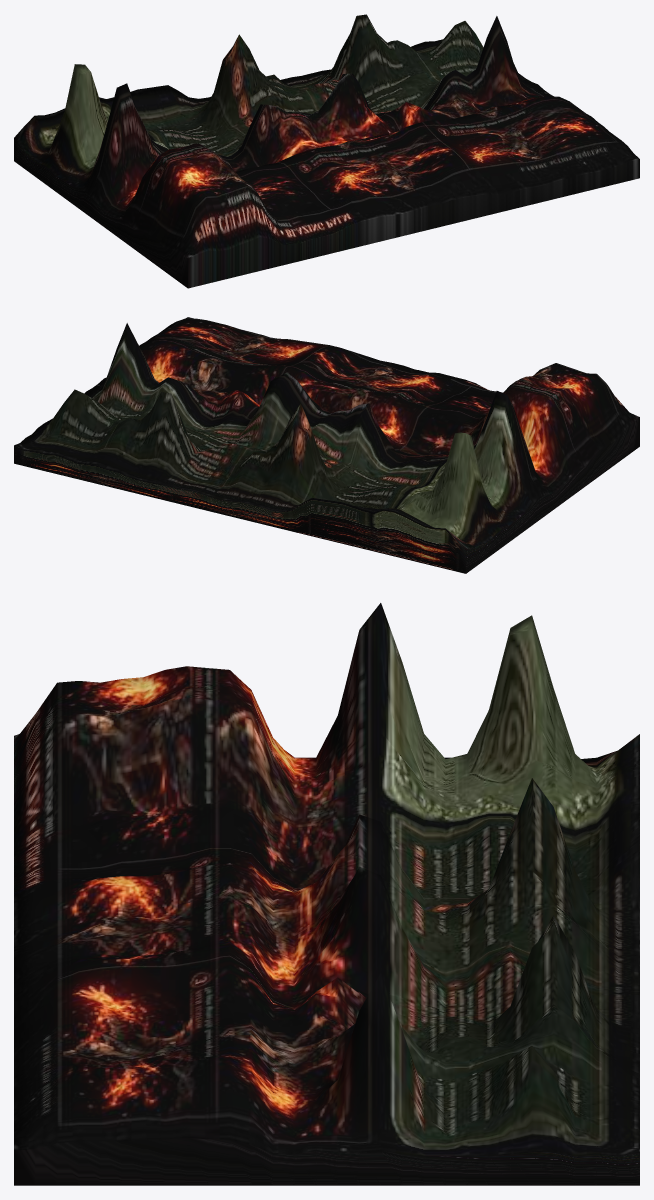
File: CUL_21_Fire.glb
3 renders of one model, top to bottom at view 1: azimuth 30°, elevation 25°; view 2: azimuth 150°, elevation 25°; view 3: azimuth 270°, elevation 25°, orthographic. The views are drawn at different scales.
Parts seen in each view (by area): view 1: CUL_21_Fire; view 2: CUL_21_Fire; view 3: CUL_21_Fire.
Boxes of the visible parts, bbox=[...] form: CUL_21_Fire: bbox=[14, 14, 639, 288]; CUL_21_Fire: bbox=[14, 317, 639, 573]; CUL_21_Fire: bbox=[14, 603, 639, 1185].
Size of the model in its own units: 2 by 0.51 by 1.33.
Materials: 1 (1 with a texture image).
